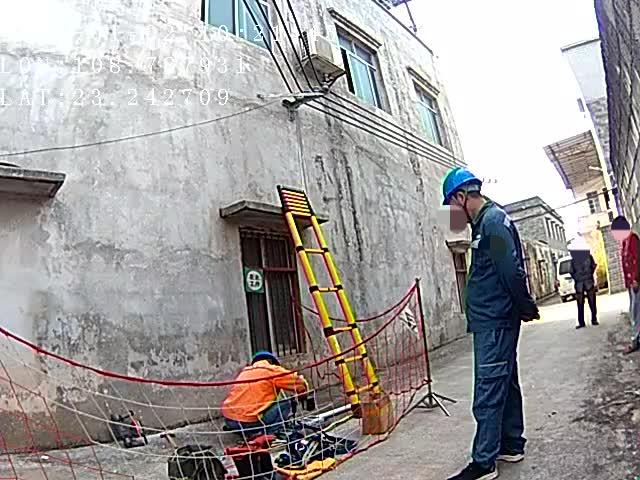halt: (443, 172, 488, 225), (254, 353, 282, 369)
inear: (453, 192, 475, 219)
unhalt: (614, 218, 632, 239), (577, 240, 589, 254)
